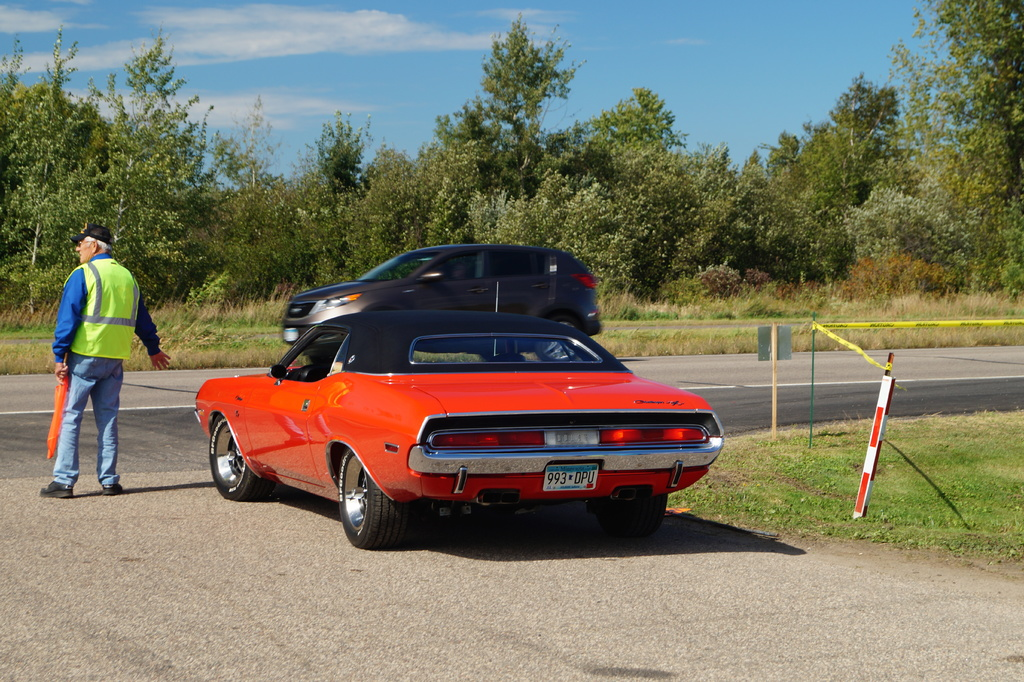Car: (193, 279, 725, 549), (279, 243, 604, 365)
